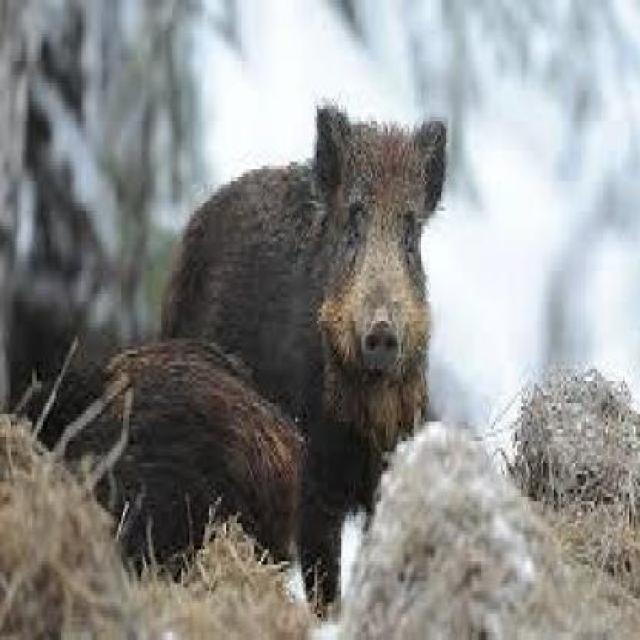wildboar: (133, 94, 453, 608), (48, 335, 308, 607)
